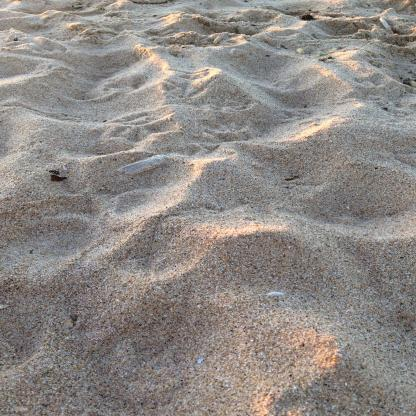trash: (114, 150, 180, 178)
